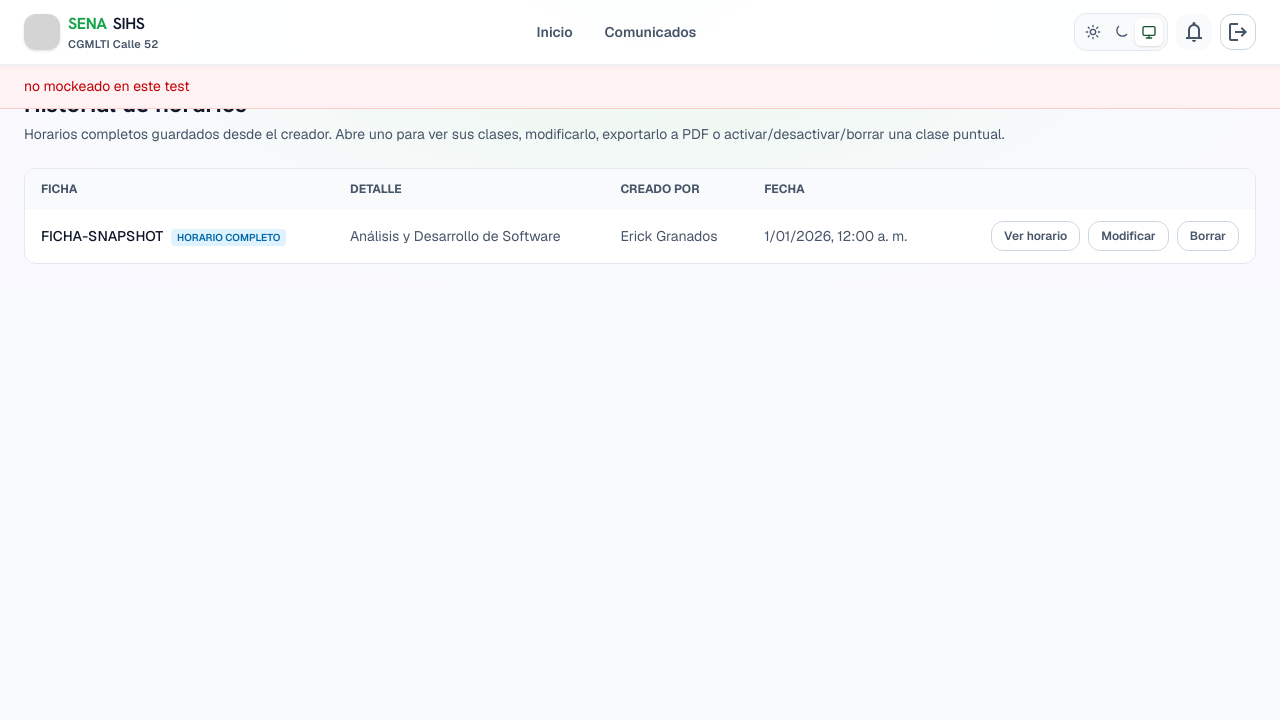
Test: HistorialHorarios › dentro del horario abierto, la clase tiene Desactivar/Borrar y un link "Modificar" al creador
Expected: the text "FICHA-SNAPSHOT" is shown, left=41, top=227, right=163, bottom=245
Click the button "Ver horario". click: point(1036, 236)
box: left=991, top=221, right=1080, bottom=251
(page scrolled)
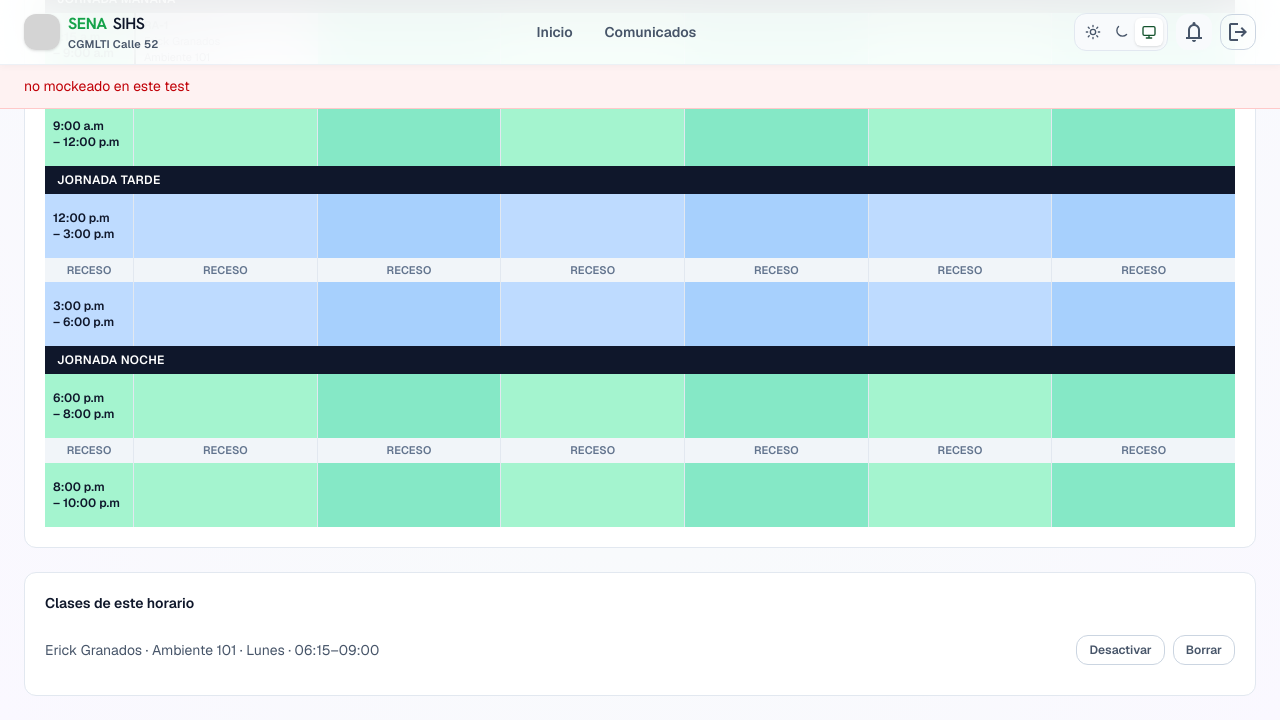
Result: the text "Clases de este horario" is shown at left=45, top=594, right=194, bottom=612
Click the button with aria-label "Desactivar clase". click: point(1121, 650)
box: left=1076, top=634, right=1165, bottom=664
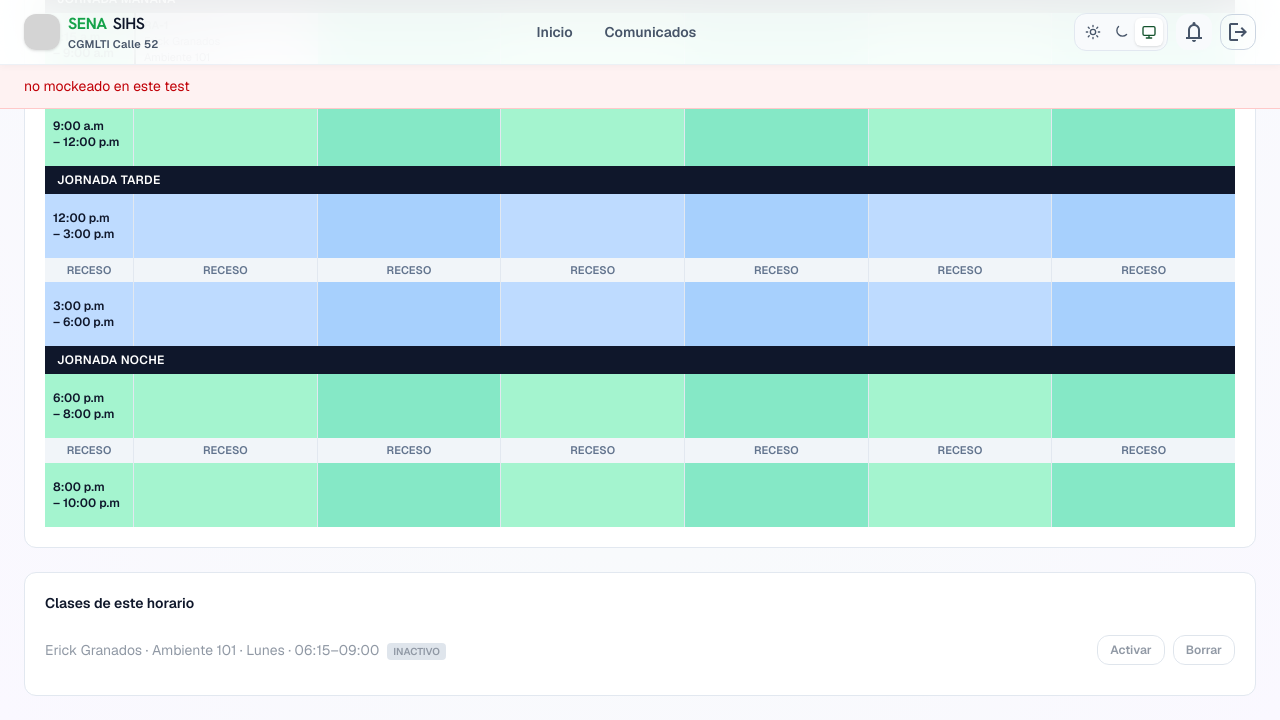
Result: the button with aria-label "Activar clase" is shown at left=1097, top=634, right=1165, bottom=664
Result: the text "Inactivo" is shown at left=387, top=642, right=446, bottom=660
